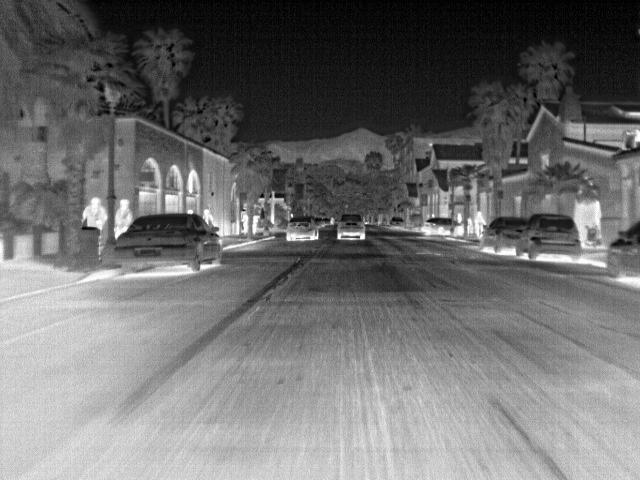car: (114, 211, 227, 274), (515, 213, 581, 260), (601, 218, 640, 280), (480, 217, 530, 255), (284, 214, 320, 240), (335, 218, 369, 240), (422, 216, 452, 236), (388, 212, 408, 229)
person: (81, 196, 109, 244), (111, 196, 135, 240), (473, 210, 488, 241), (199, 208, 216, 229)
